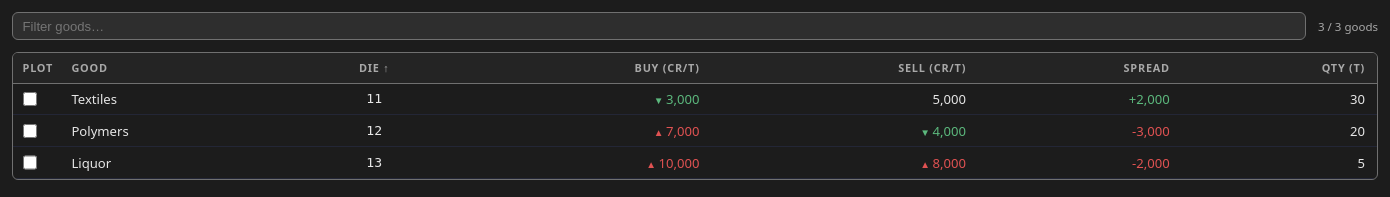
Test: MarketTable — sort › clicking Good header sorts by name ascending
The image size is (1390, 197).
Step 1. Click the column heading with class "sortable" showing "Good" → [177, 68], box [59,53,295,83]
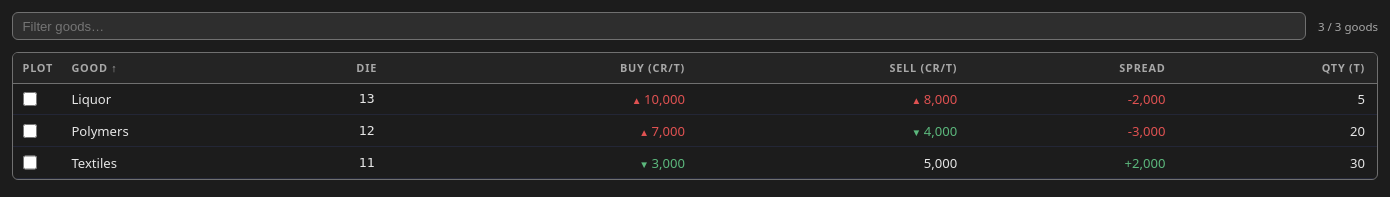
Expected: the elements with class "good-name" read "Liquor", "Polymers", "Textiles", in this order, [59,83,300,115]; [59,115,300,147]; [59,147,300,178]
